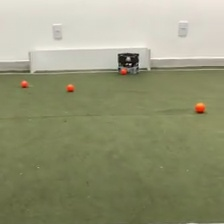ball: (194, 100, 206, 113), (65, 82, 75, 92), (19, 78, 29, 88), (119, 66, 128, 75)
goal: (28, 45, 153, 76)
robot: (116, 51, 141, 76)
